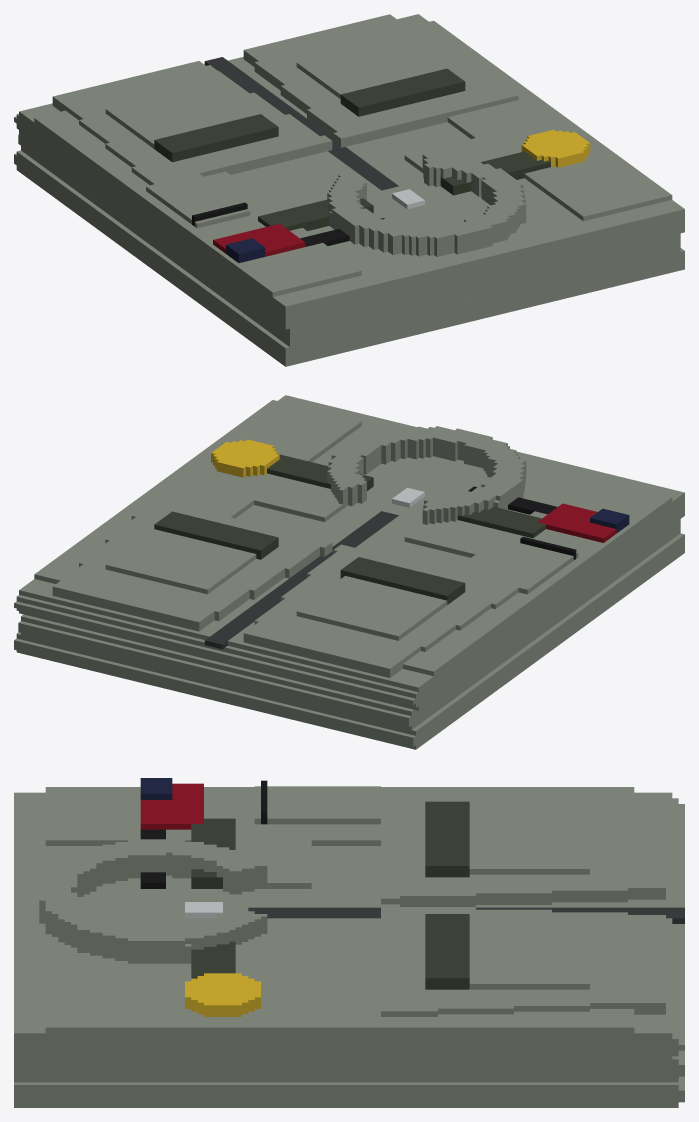
File: mil_flight_suit.glb
3 views of the same model, one above another, from view 1: azimuth 30°, elevation 25°; view 2: azimuth 150°, elevation 25°; view 3: azimuth 270°, elevation 25° (orthographic). The views are drawn at different scales.
Parts seen in each view (by area): view 1: mil_flight_suit:compound; view 2: mil_flight_suit:compound; view 3: mil_flight_suit:compound.
Boxes of the visible parts, <box> form: mil_flight_suit:compound: <box>14,14,684,366</box>; mil_flight_suit:compound: <box>14,395,684,749</box>; mil_flight_suit:compound: <box>14,778,684,1107</box>.
Size of the model in its own units: 0.36 by 0.068 by 0.424.
